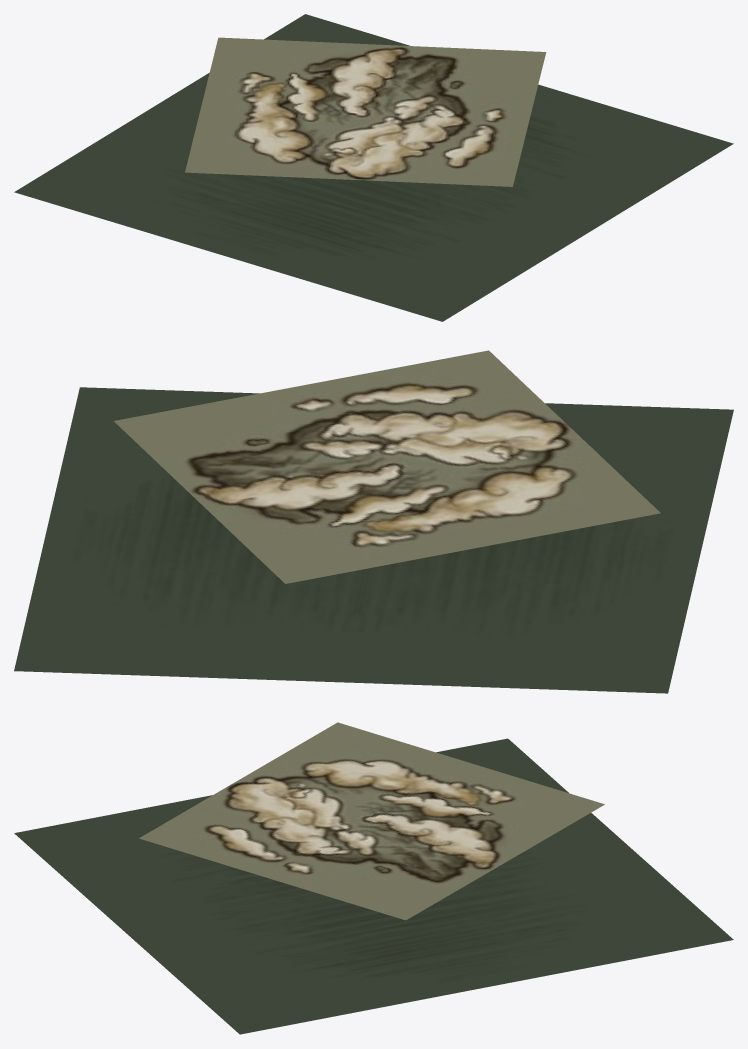
The model's file is pir_m_are_isl_coldwater_worldmap.fbx.
3 renders of one model, top to bottom at view 1: azimuth 30°, elevation 25°; view 2: azimuth 150°, elevation 25°; view 3: azimuth 270°, elevation 25°, orthographic. The views are drawn at different scales.
Visible parts, largest first — view 1: sketchmark, clouds; view 2: sketchmark, clouds; view 3: sketchmark, clouds.
Part boxes in pixels (x1,y1,x2,y2): sketchmark: (14,14,733,321); clouds: (185,37,546,186); sketchmark: (14,387,733,693); clouds: (114,350,660,583); sketchmark: (14,738,733,1034); clouds: (139,722,604,920).
Size of the model in its own units: 40.44 by 3.85 by 41.56.
Materials: 1 (1 with a texture image).
